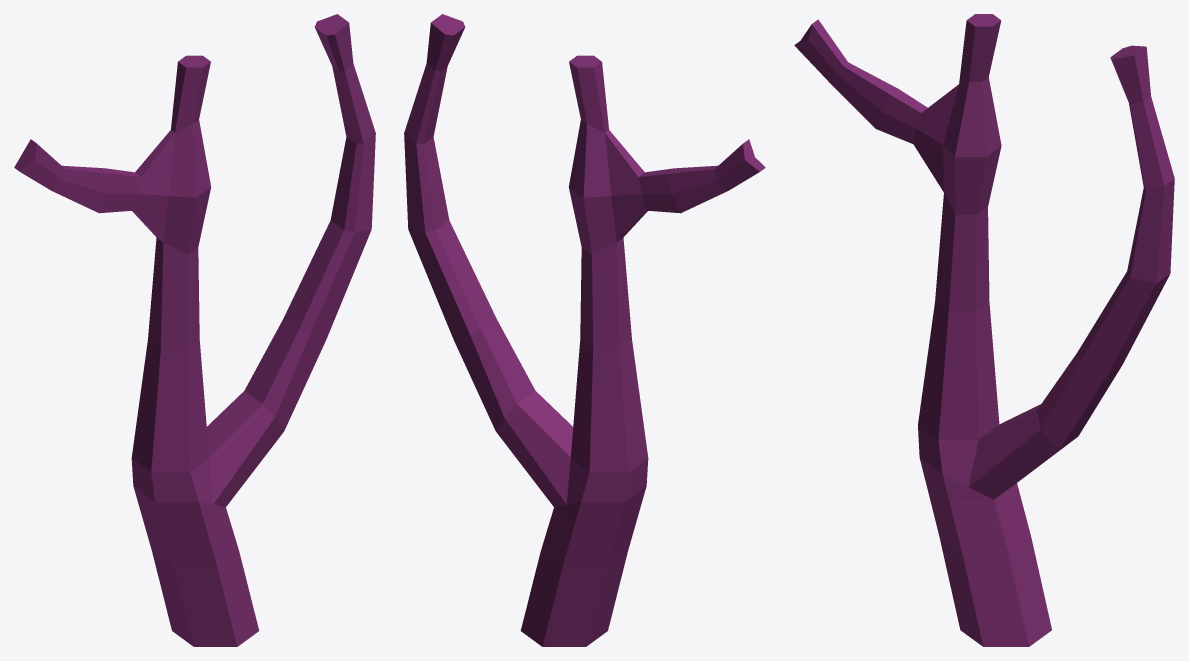
File: Coral 3.fbx
The picture shows the model from 3 angles, left to right: view 1: azimuth 30°, elevation 25°; view 2: azimuth 150°, elevation 25°; view 3: azimuth 330°, elevation 25°; orthographic projection. The views are drawn at different scales.
Parts seen in each view (by area): view 1: coral; view 2: coral; view 3: coral.
Boxes of the visible parts, x1,y1,x2,y2 form: coral: (14, 14, 375, 646); coral: (404, 14, 765, 646); coral: (794, 14, 1174, 646).
Bounding box in the file's own units: 66.15 × 104 × 14.13.
